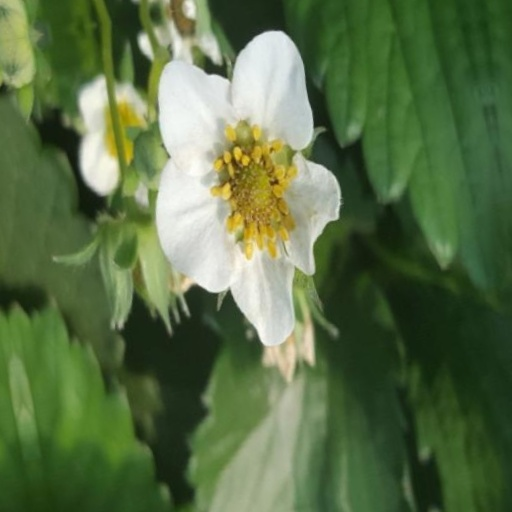Blossom Blight: (196, 246, 293, 395)
